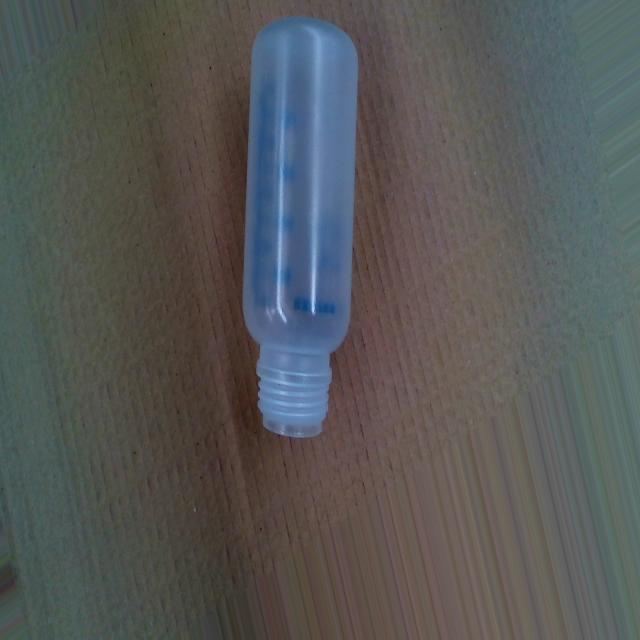bottle: (244, 15, 359, 443)
